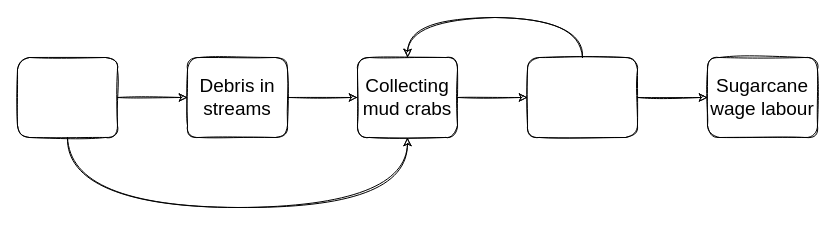
This 835x226 diagram has some shape labels left out. The shapes that lost their labels are listed below. From the top down, each one's box as (x1, y1, x2, y2) in pixels, then its label:
(16, 56, 118, 138): Tropical Cyclone
(526, 56, 638, 138): Collect crabs in new locations
